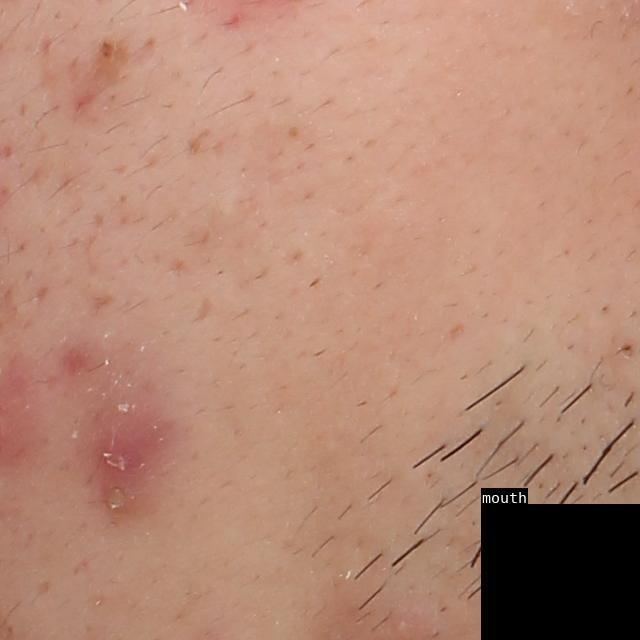atrophic_scar: (186, 292, 211, 325)
papule: (83, 400, 167, 500)
